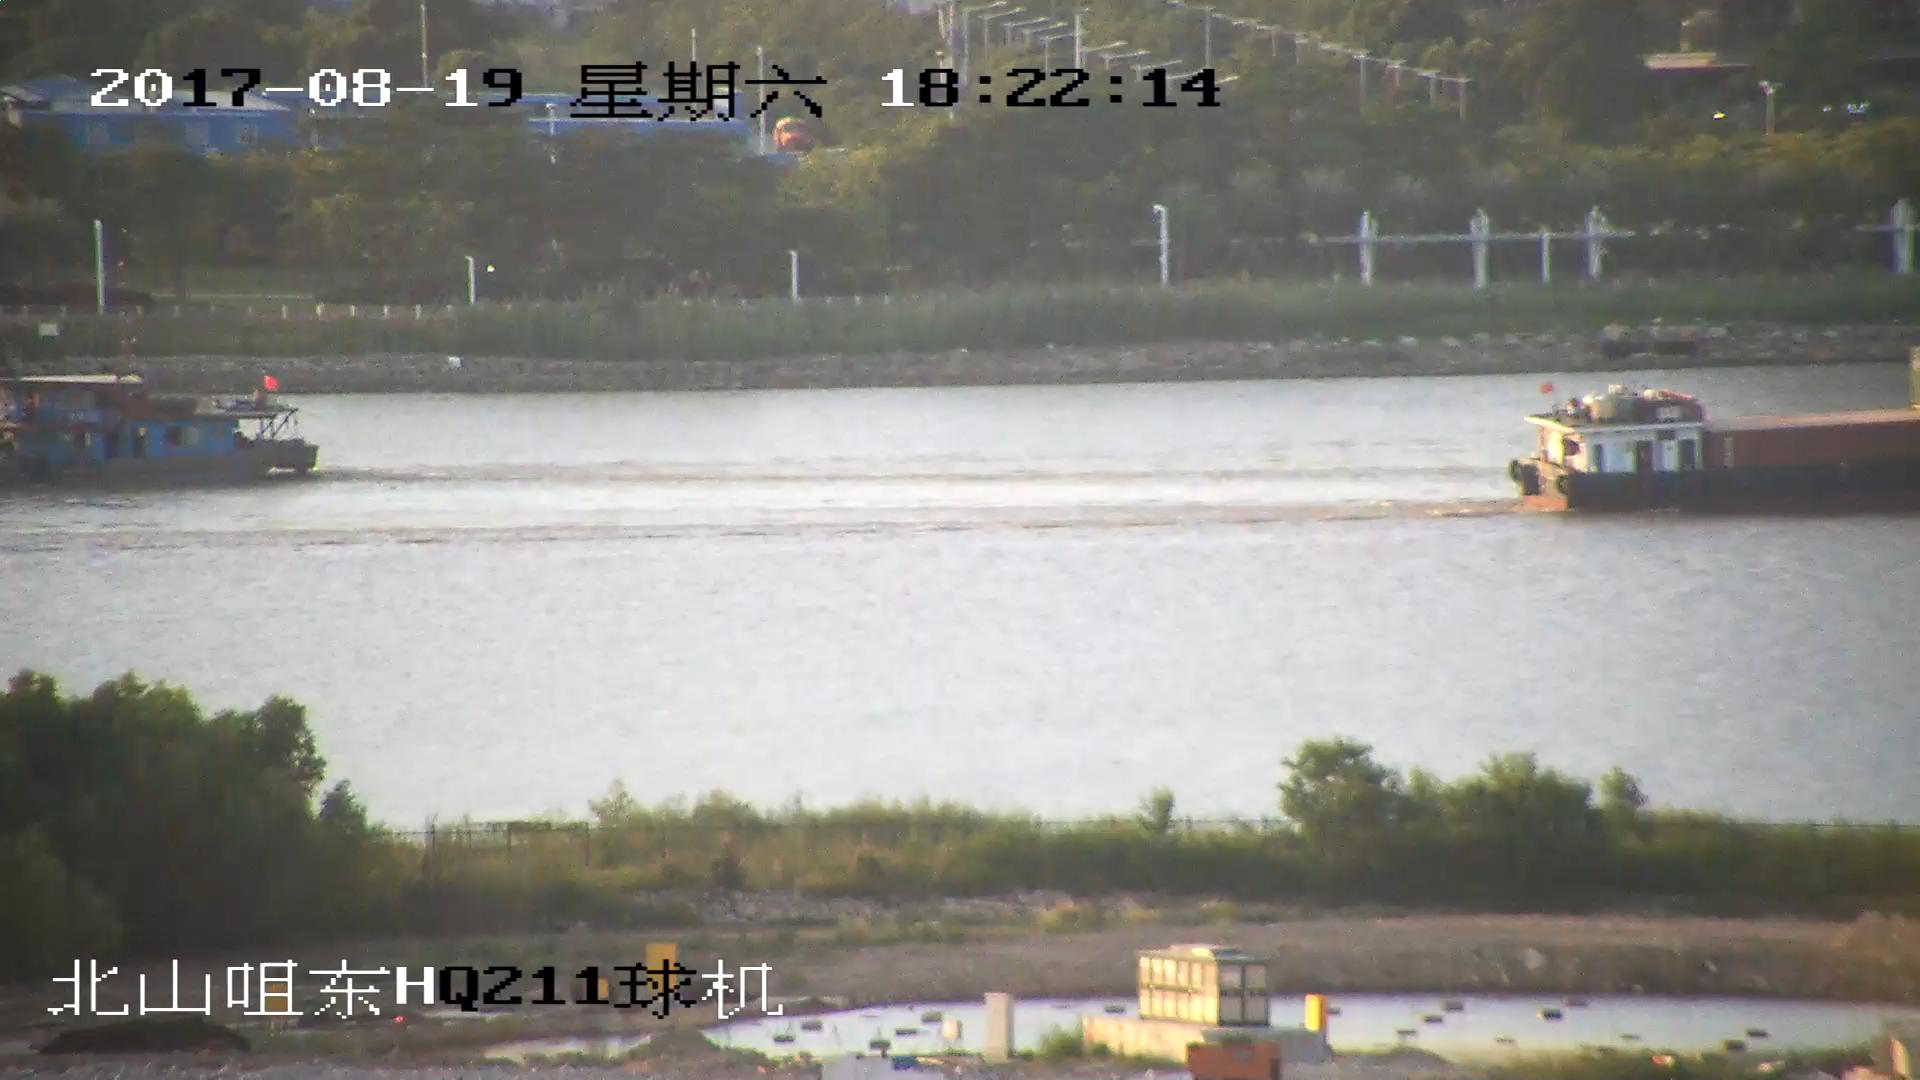container ship: (1516, 352, 1920, 510)
ore carrier: (1, 366, 318, 490)
